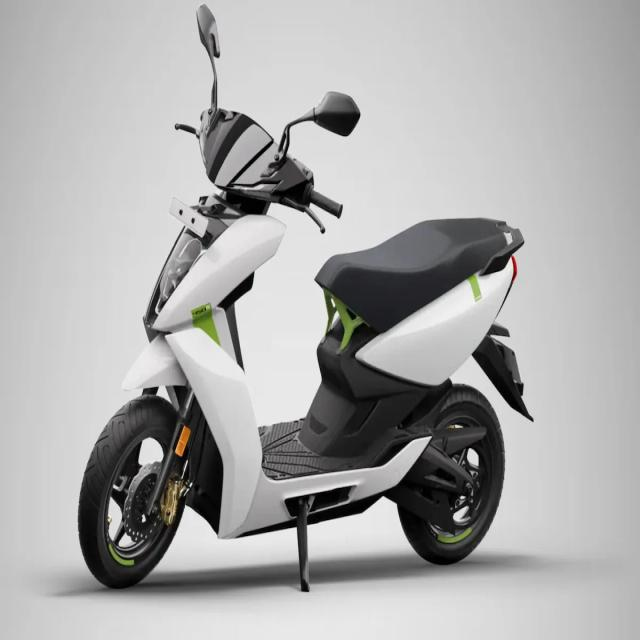objects: (64, 0, 532, 598)
